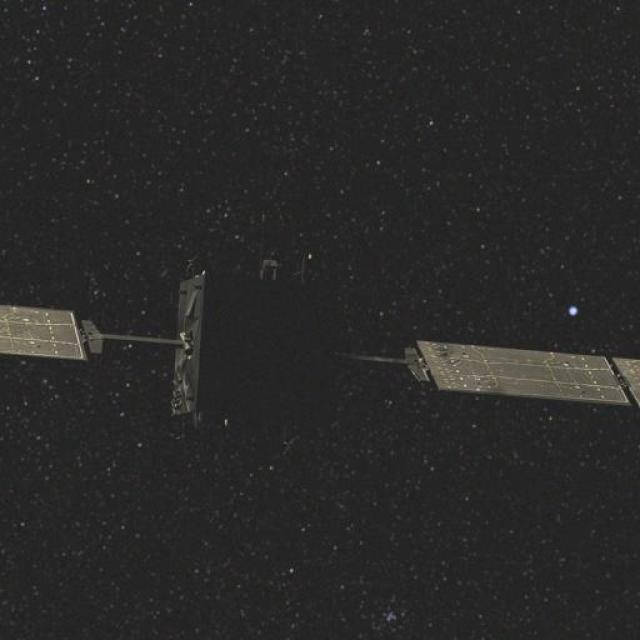smart_1: (118, 264, 489, 465)
